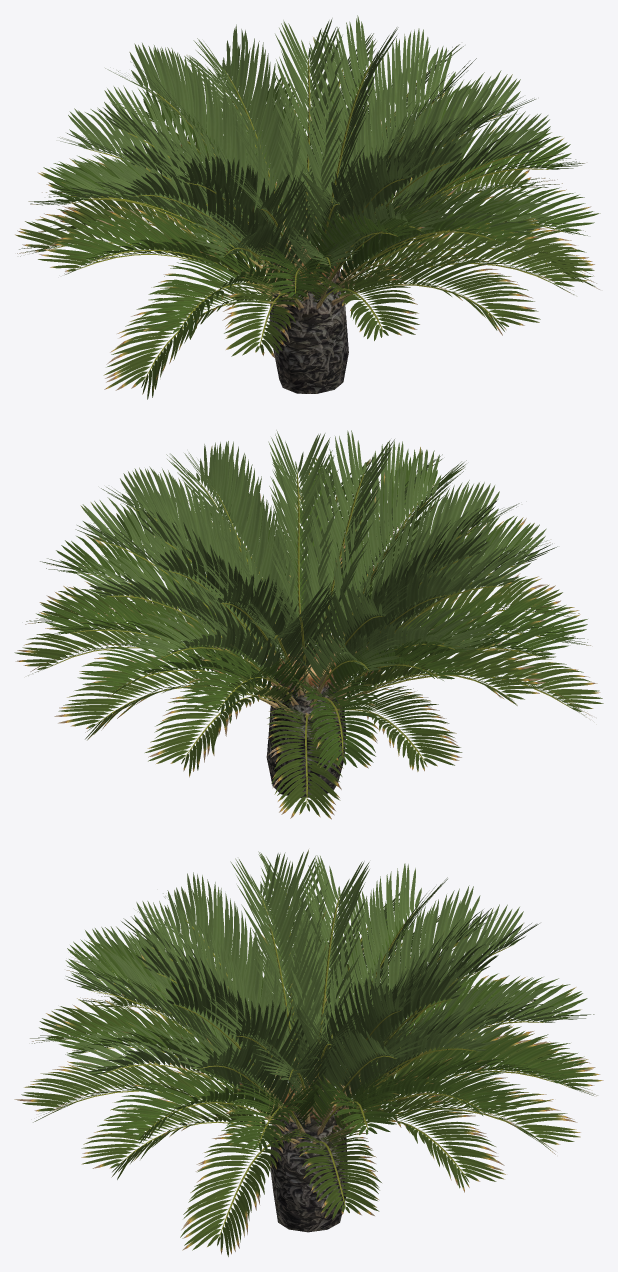
File: Cycas revoluta HD_Standard 1 trunk mat 0_LOD1.fbx
The picture shows the model from 3 angles, top to bottom: view 1: azimuth 30°, elevation 25°; view 2: azimuth 150°, elevation 25°; view 3: azimuth 270°, elevation 25°; orthographic projection.
Visible parts, largest first — view 1: Cycas_revoluta_HD; view 2: Cycas_revoluta_HD; view 3: Cycas_revoluta_HD.
Boxes of the visible parts, x1=… form: Cycas_revoluta_HD: x1=15, y1=15, x2=600, y2=399; Cycas_revoluta_HD: x1=14, y1=430, x2=603, y2=819; Cycas_revoluta_HD: x1=14, y1=849, x2=603, y2=1256.
Size of the model in its own units: 0.7592 by 0.4162 by 0.7477.
Materials: 7 (7 with a texture image).
